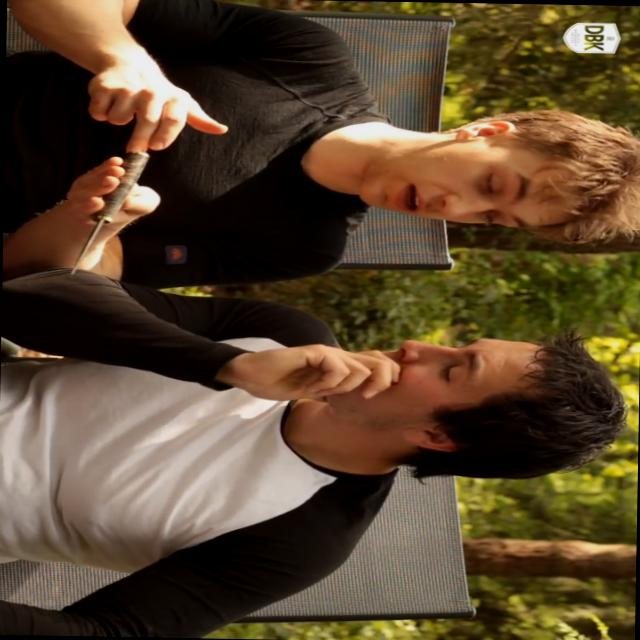knife: (54, 147, 162, 283)
